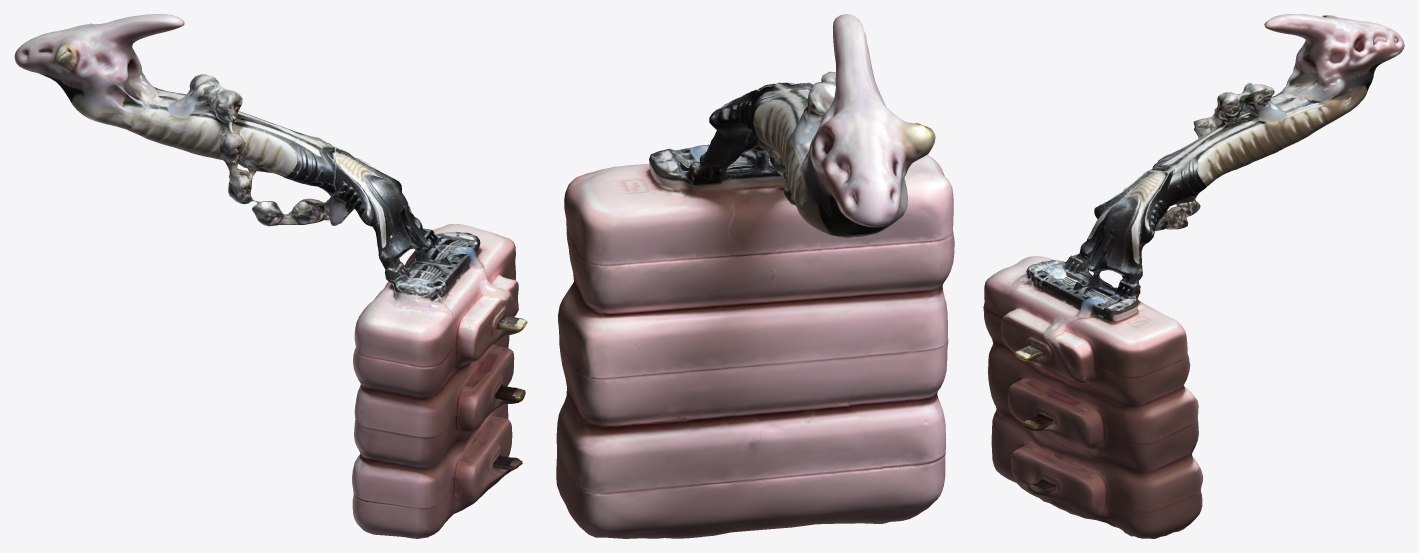
3 renders of one model, left to right at view 1: azimuth 30°, elevation 25°; view 2: azimuth 150°, elevation 25°; view 3: azimuth 270°, elevation 25°, orthographic. The views are drawn at different scales.
Parts seen in each view (by area): view 1: P20; view 2: P20; view 3: P20.
Boxes of the visible parts, x1,y1,x2,y2 form: P20: (14,14,527,538); P20: (556,14,954,538); P20: (983,14,1404,538).
Bounding box in the file's own units: 0.4906 × 0.5916 × 0.5412.
1 material, 1 textured.
